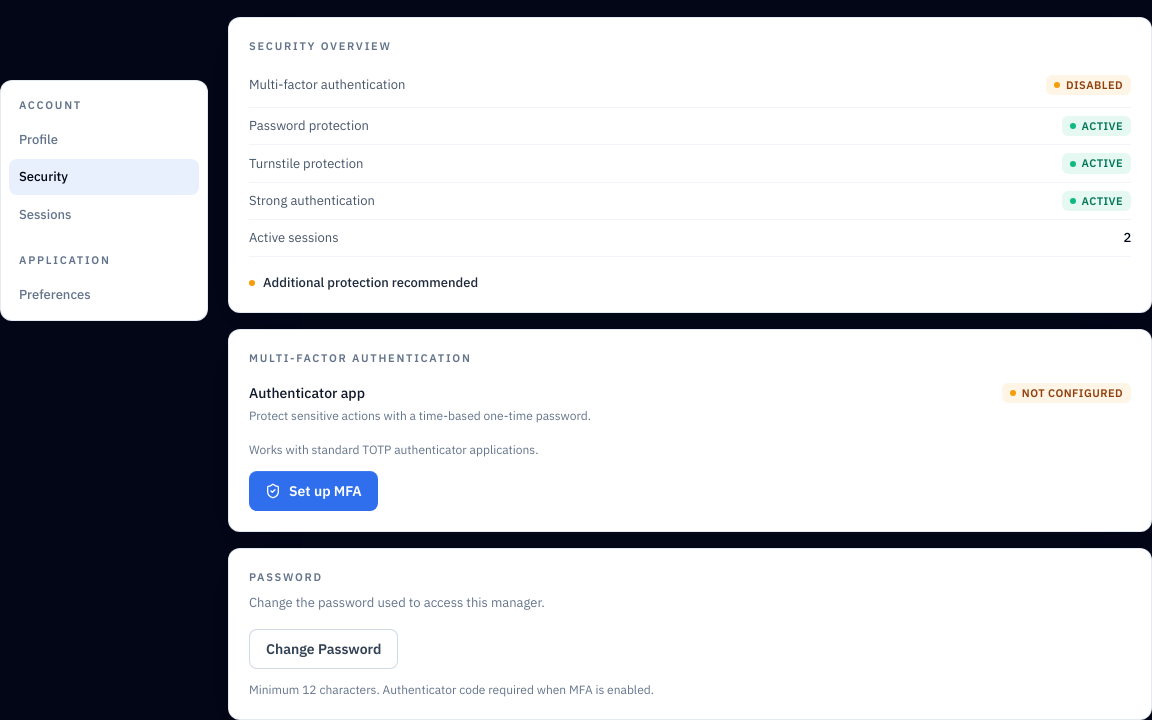
Settings page › opens password modal and surfaces validation errors
(page scrolled)
Expected: the text "Security overview" is shown, [249,39,392,53]
Click the button "Change Password".
click(324, 649)  # box [249,629,398,669]
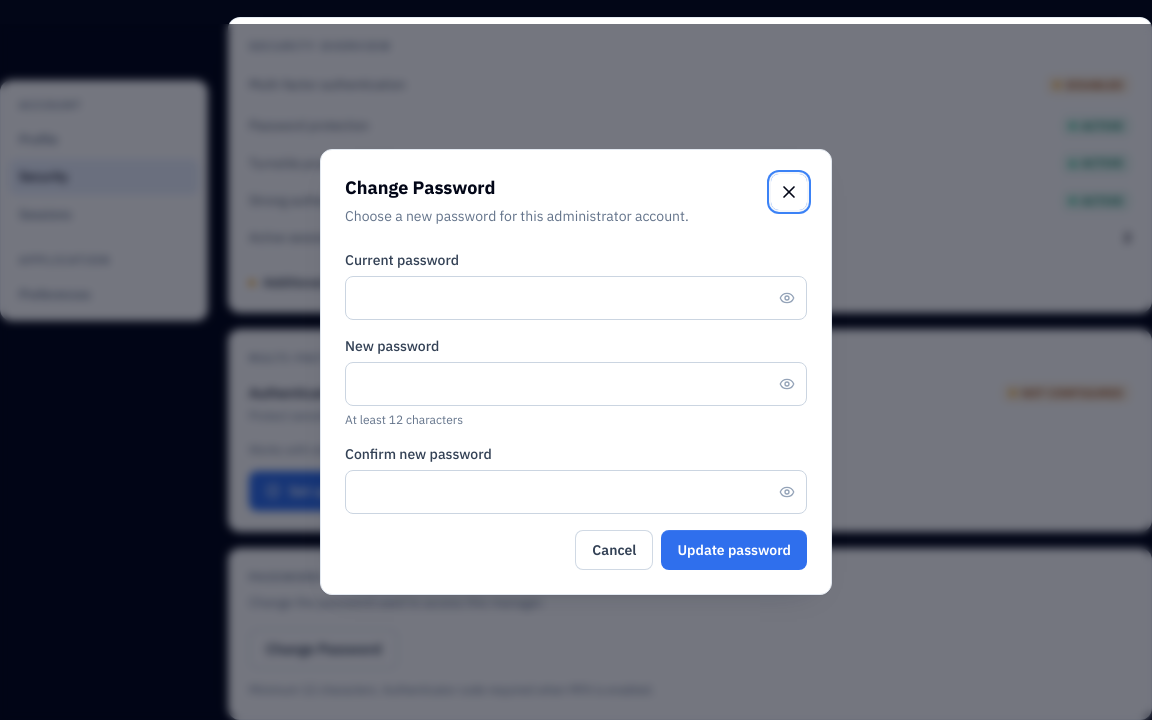
Type "old-password-12" into the password field labelled "Current password".
click(576, 298); type("old-password-12")  # box [345,276,807,320]
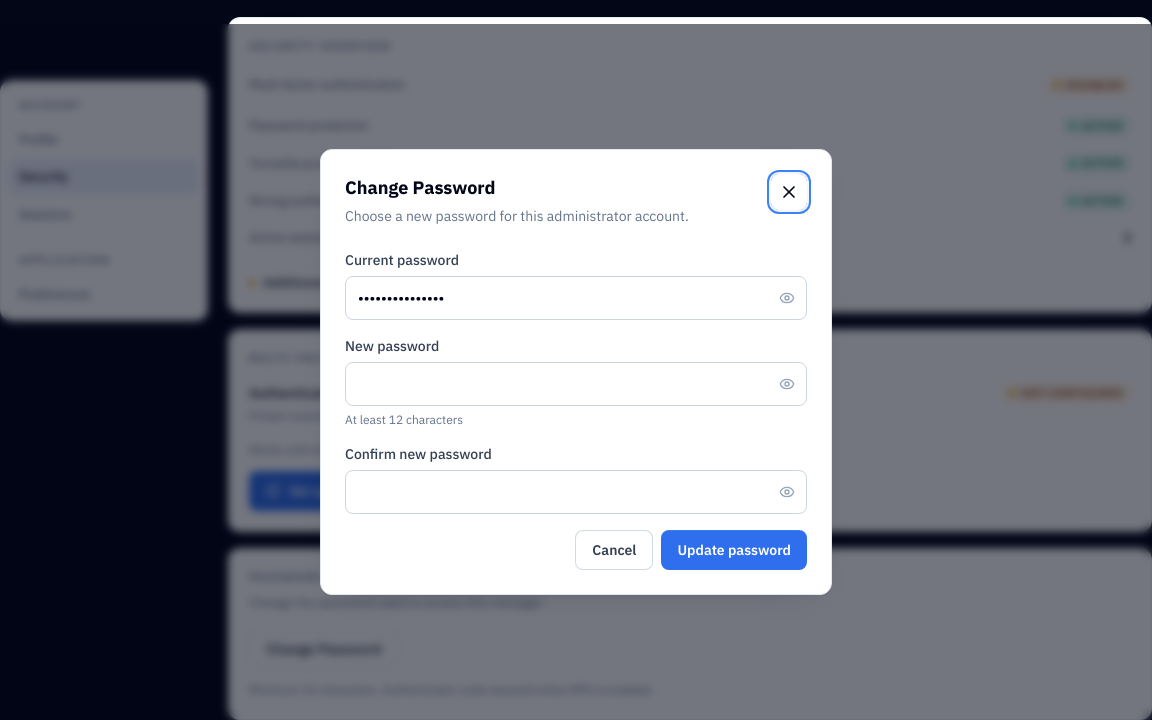
Type "new-password-12" into the password field labelled "New password".
click(576, 384); type("new-password-12")  # box [345,362,807,406]
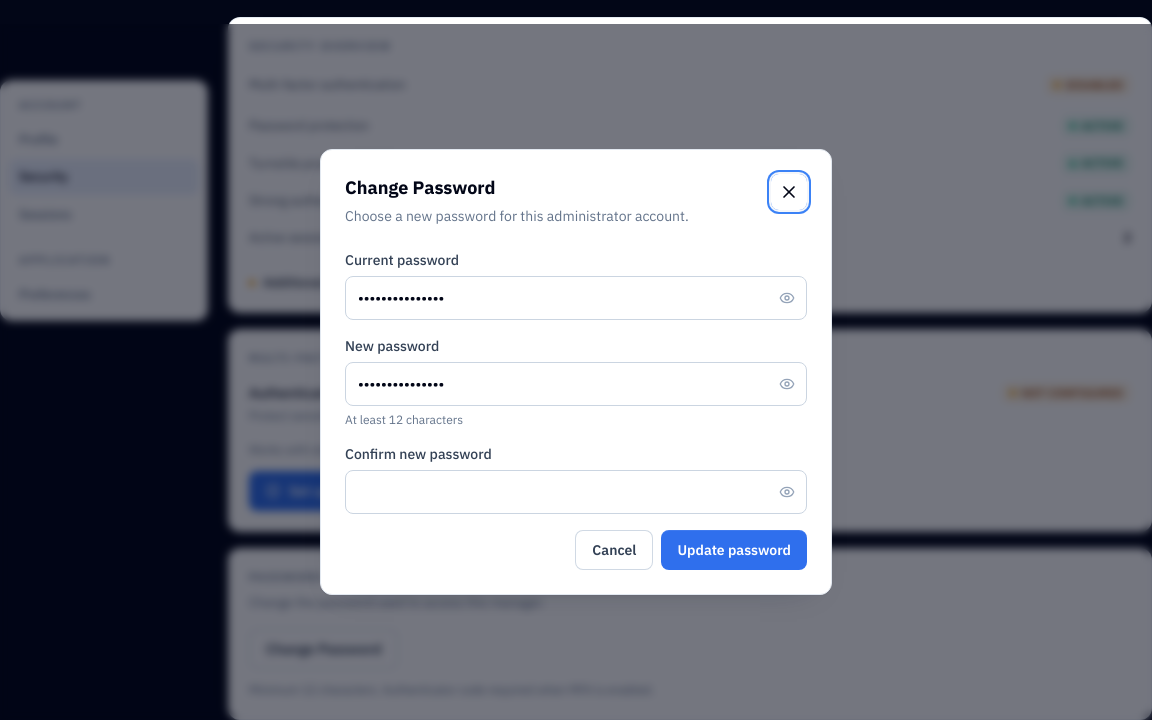
Type "mismatch-password" into the password field labelled "Confirm new password".
click(576, 492); type("mismatch-password")  # box [345,470,807,514]
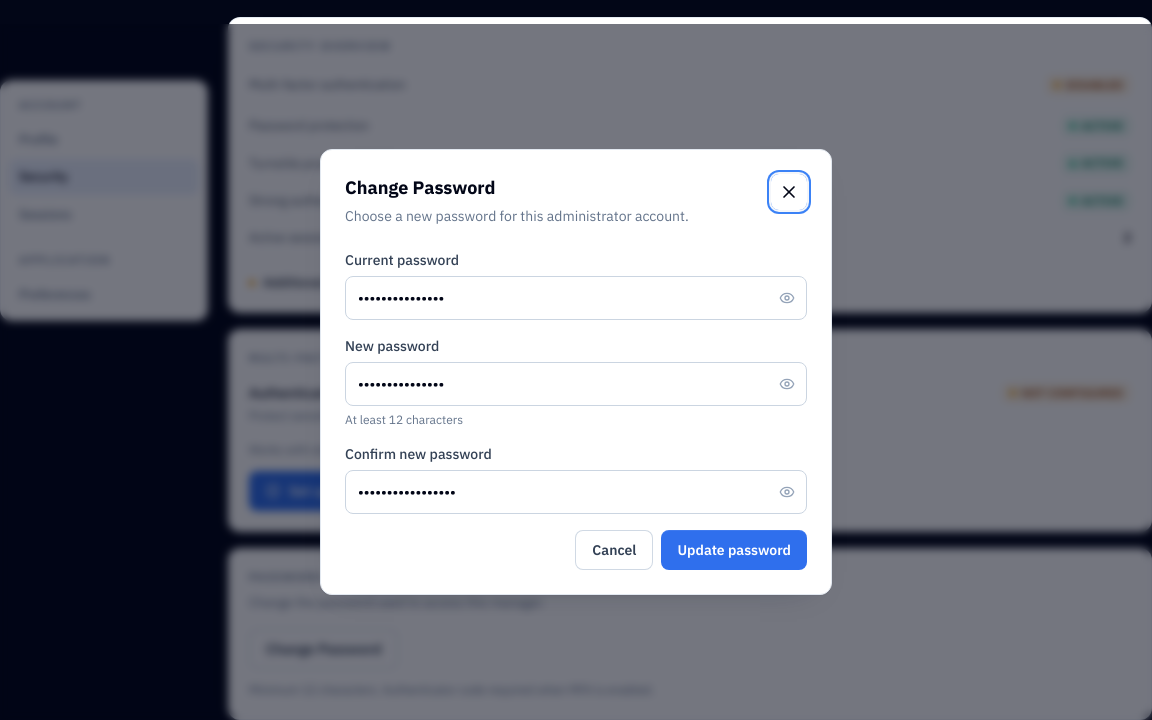
Click the button "Update password".
click(734, 550)  # box [662,530,807,570]
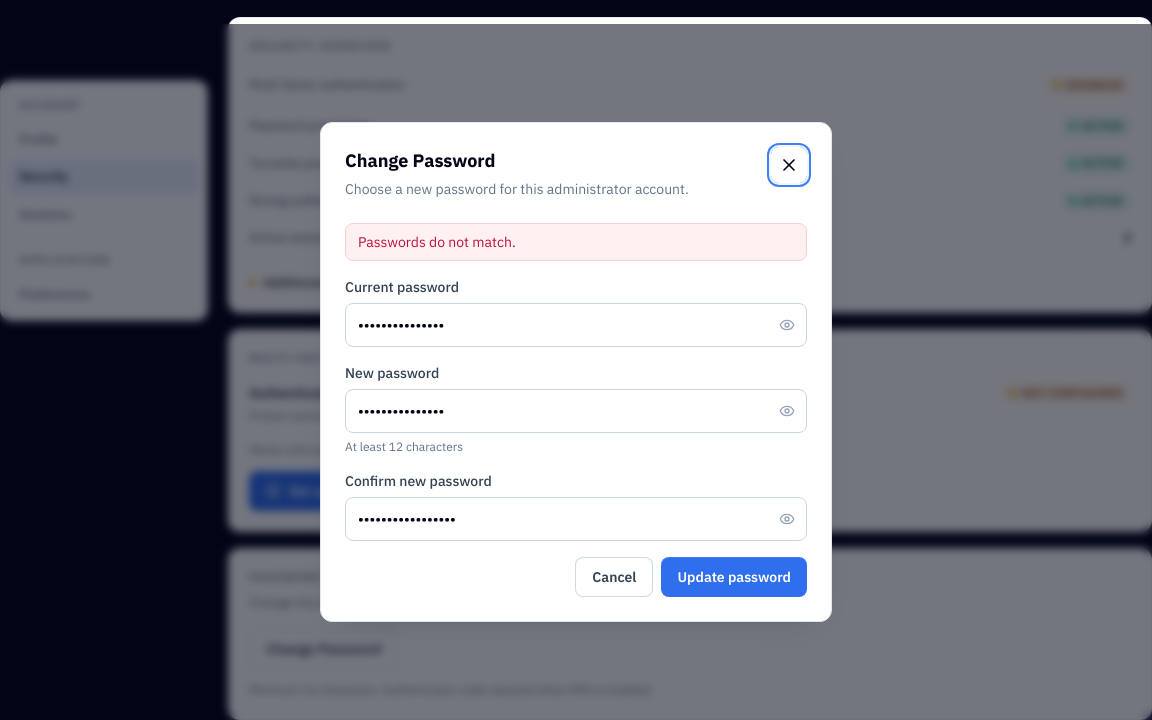
Result: the text "Passwords do not match." is shown at [345,223,807,261]
